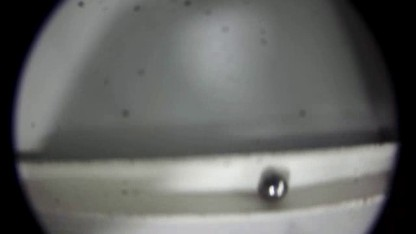gangzhu: (258, 169, 289, 202)
